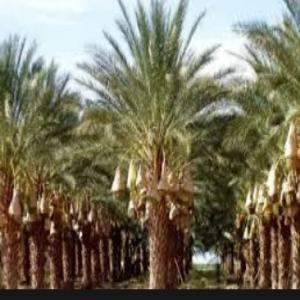palm tree: (73, 0, 242, 288), (222, 5, 299, 289)
